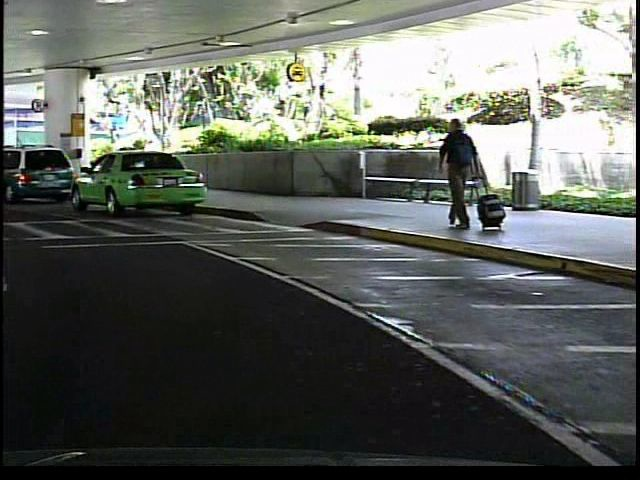person: (431, 113, 484, 241)
